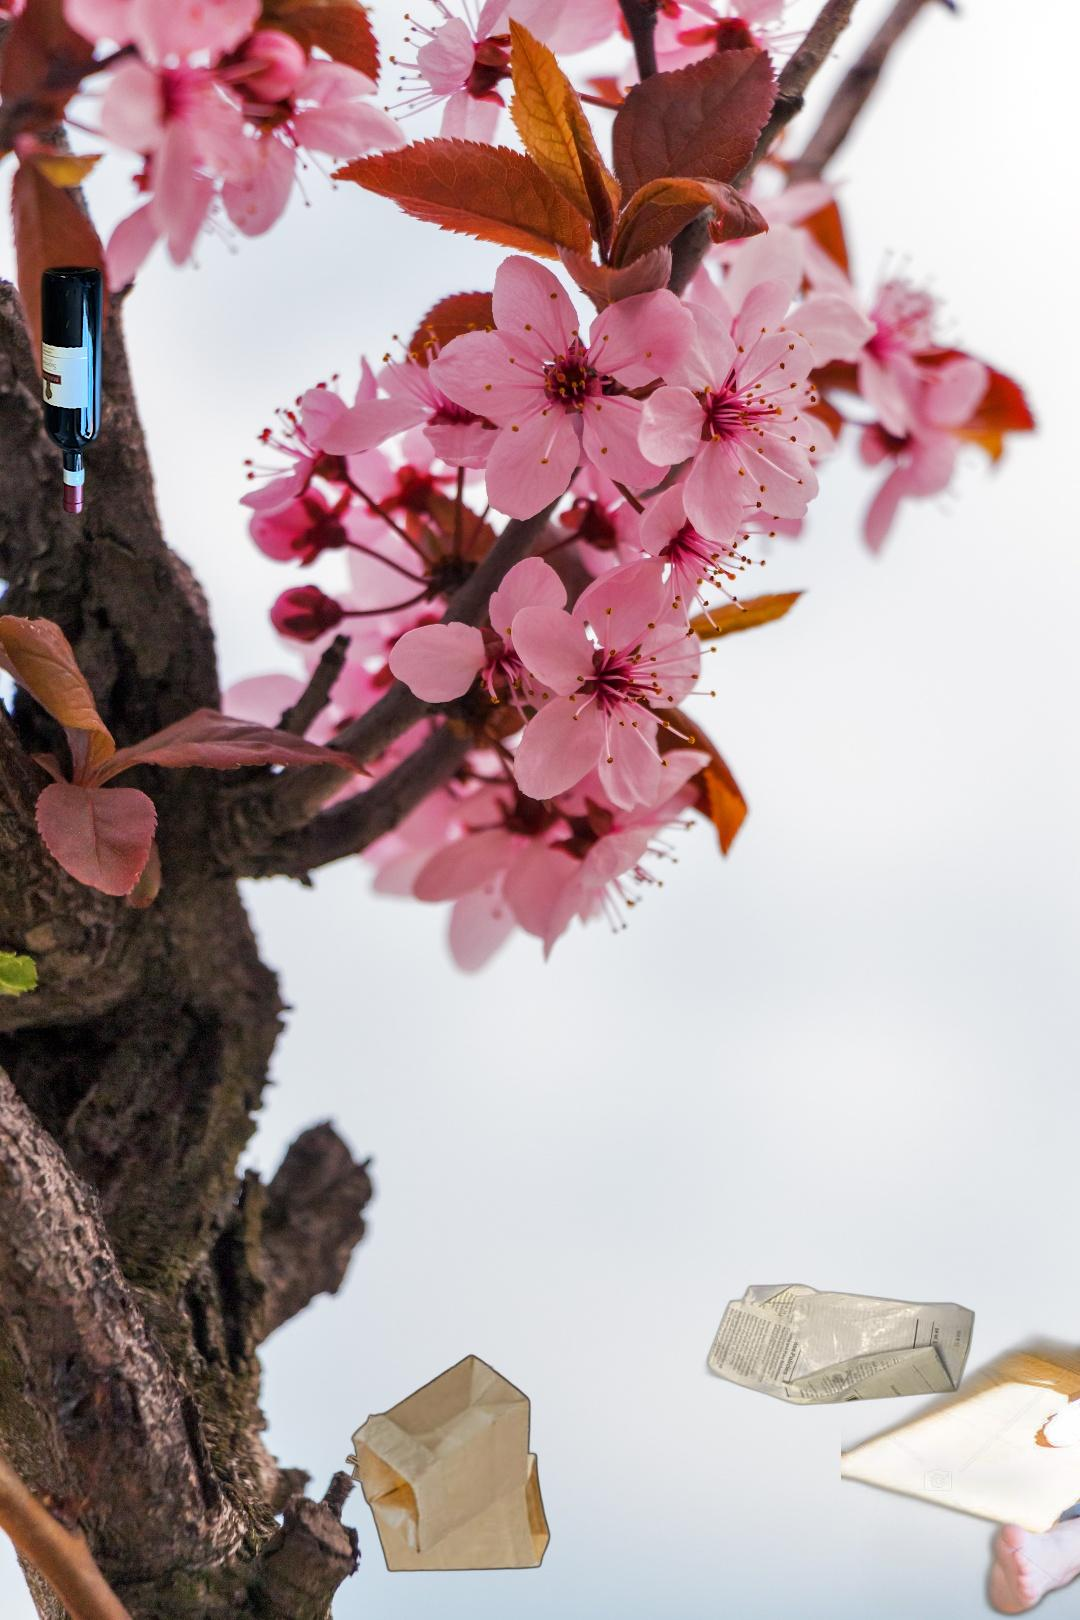glass: (31, 256, 107, 522)
paper: (700, 1280, 980, 1408)
paper-bag: (344, 1352, 552, 1575)
trashbox-cardboard: (841, 798, 1080, 1620)
